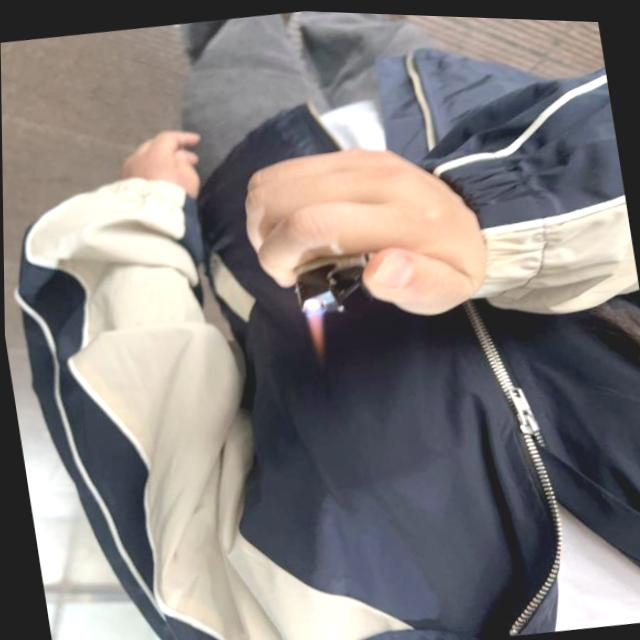Fire: (302, 305, 326, 343)
